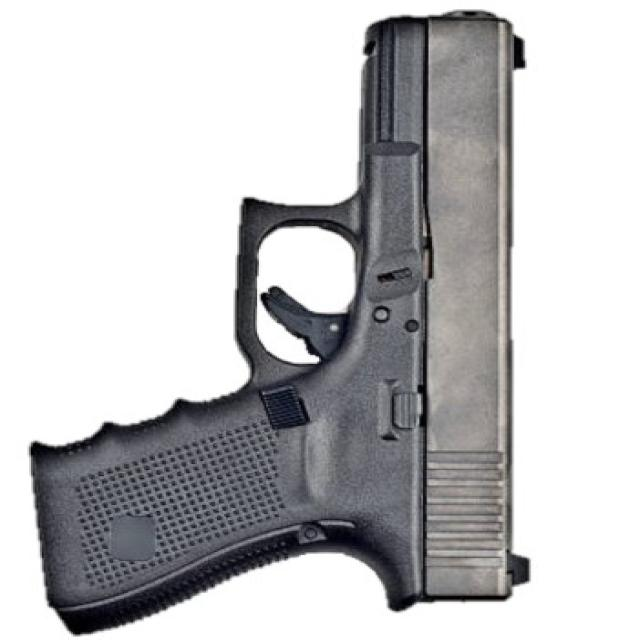pistol: (31, 5, 542, 636)
